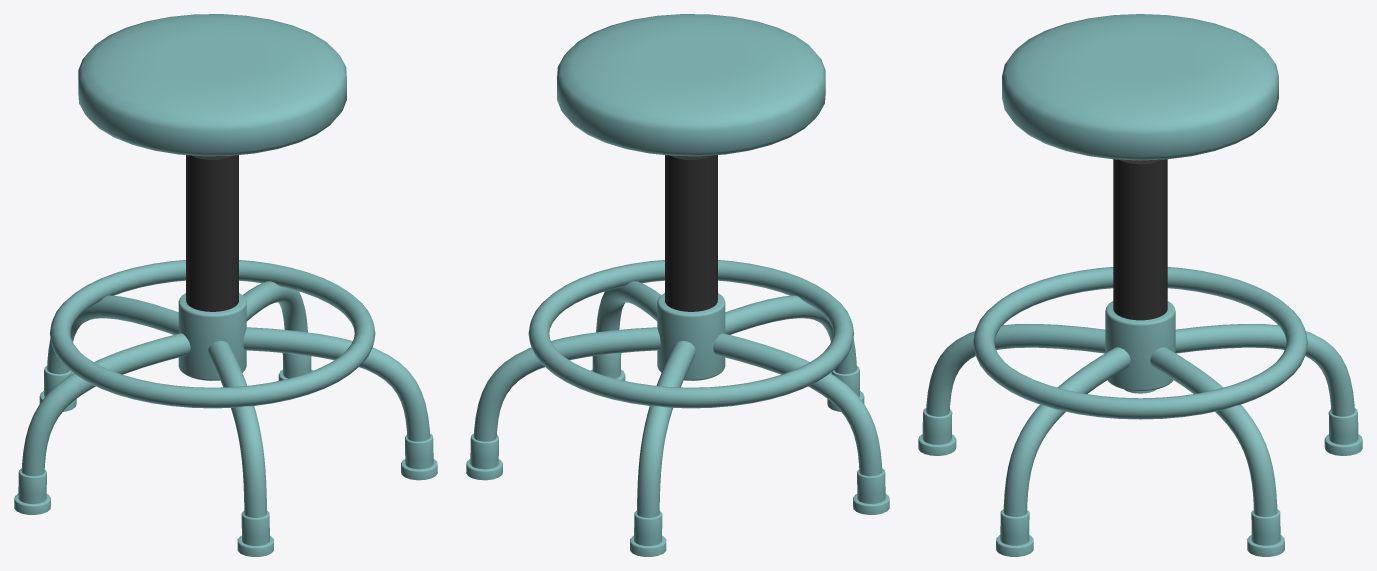
The model's file is S_Tabouret.fbx.
The picture shows the model from 3 angles, left to right: view 1: azimuth 30°, elevation 25°; view 2: azimuth 150°, elevation 25°; view 3: azimuth 270°, elevation 25°; orthographic projection. The views are drawn at different scales.
Parts seen in each view (by area): view 1: BOTOM, TOP; view 2: BOTOM, TOP; view 3: BOTOM, TOP.
Part boxes in pixels (x1=…): BOTOM: x1=14, y1=155, x2=437, y2=556; TOP: x1=78, y1=14, x2=346, y2=156; BOTOM: x1=466, y1=155, x2=889, y2=556; TOP: x1=557, y1=14, x2=825, y2=156; BOTOM: x1=918, y1=159, x2=1362, y2=556; TOP: x1=1002, y1=14, x2=1278, y2=160.
Size of the model in its own units: 59.6 by 64.61 by 62.4.
